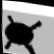not correct: (1, 11, 44, 54)
